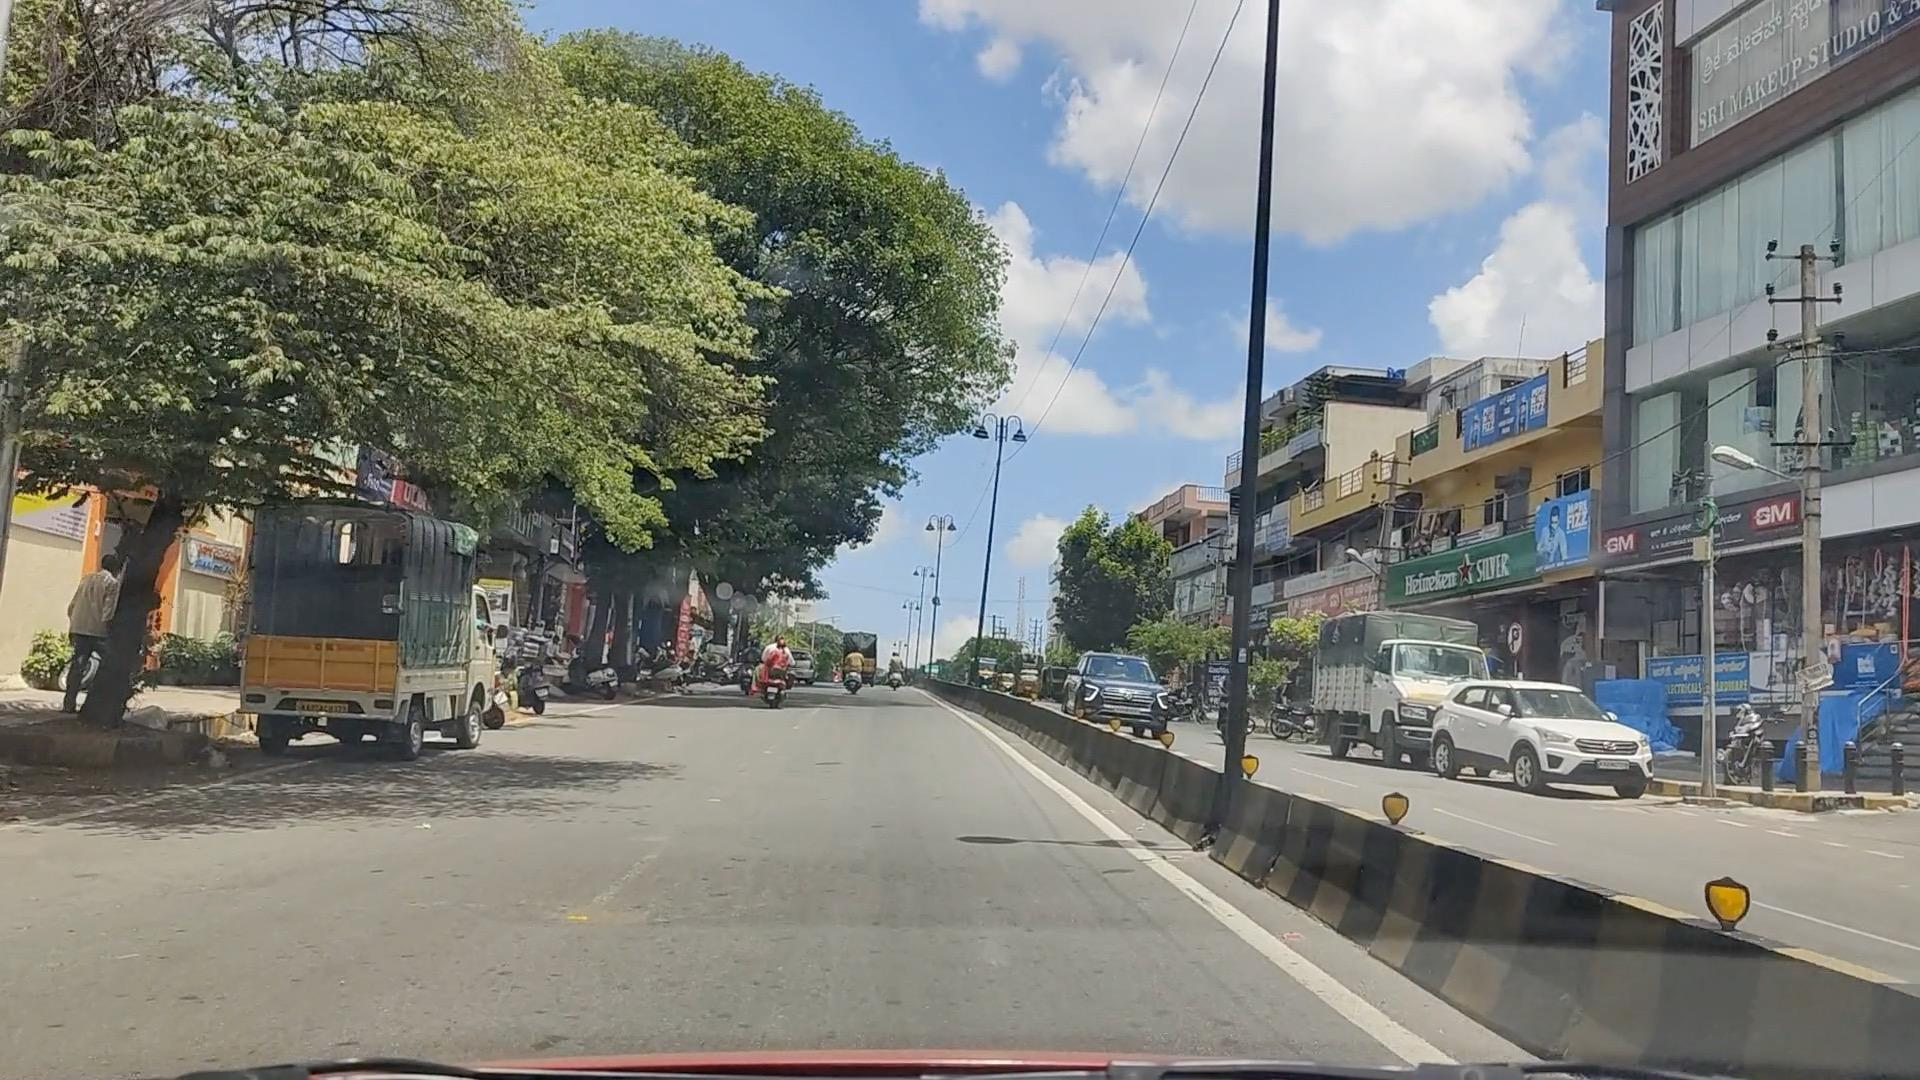HMV: (247, 487, 517, 749)
